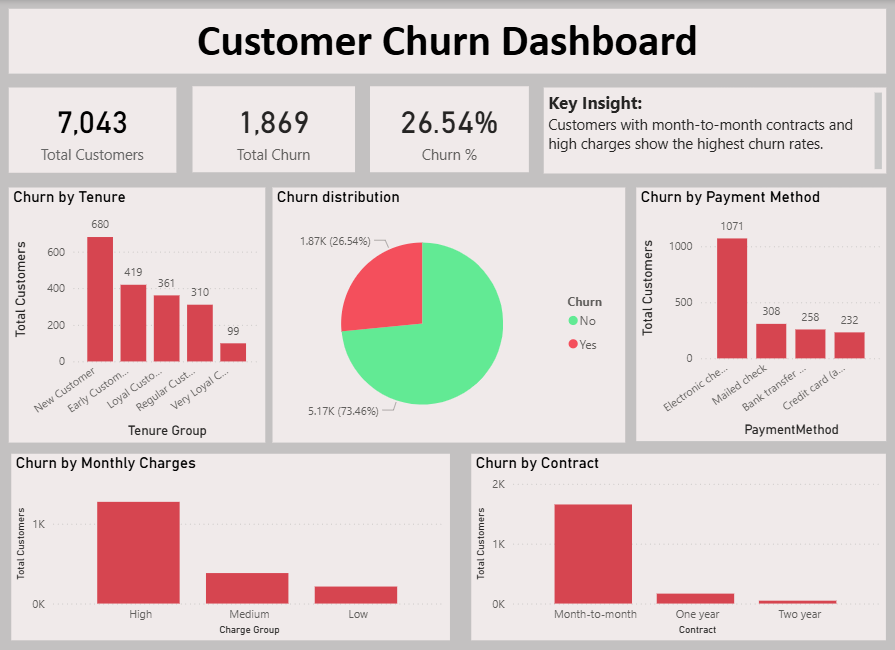

The dashboard page shown, as its layout file describes it:
{"tool":"powerbi","page":{"name":"Page 1","canvas":[1280,720],"ordinal":0},"visuals":[{"type":"card","title":"Churn Rate","fields":{"Values":["Telco-Customer-Churn.Churn %"]},"box":[537.9,94.7,174.3,94.7],"z":0},{"type":"clusteredColumnChart","title":"Churn by Tenure","fields":{"Category":["Telco-Customer-Churn.Tenure Group"],"Y":["Telco-Customer-Churn.total_customers"],"Series":["Telco-Customer-Churn.Churn"]},"box":[141.3,205.8,281.3,279.9],"z":1000},{"type":"clusteredColumnChart","title":"Churn by Payment Method","fields":{"Category":["Telco-Customer-Churn.PaymentMethod"],"Y":["Telco-Customer-Churn.total_customers"],"Series":["Telco-Customer-Churn.Churn"]},"box":[830.2,205.8,274.4,278.6],"z":2000},{"type":"pieChart","title":"Churn distribution","fields":{"Category":["Telco-Customer-Churn.Churn"],"Y":["CountNonNull(Telco-Customer-Churn.Churn)"]},"box":[430.9,205.8,387,279.9],"z":3000},{"type":"clusteredColumnChart","title":"Churn by Contract","fields":{"Category":["Telco-Customer-Churn.Contract"],"Y":["Telco-Customer-Churn.total_customers"],"Series":["Telco-Customer-Churn.Churn"]},"box":[649.1,498.1,455.6,204.5],"z":4000},{"type":"card","title":"Total Customers","fields":{"Values":["Telco-Customer-Churn.total_customers"]},"box":[141.3,96.1,183.9,93.3],"z":5000},{"type":"card","title":"Total Churn","fields":{"Values":["Telco-Customer-Churn.Total Churn"]},"box":[343.1,94.7,178.4,94.7],"z":6000},{"type":"textbox","box":[141.3,9.6,963.3,71.4],"z":7000},{"type":"clusteredColumnChart","title":"Churn by Monthly Charges","fields":{"Y":["Telco-Customer-Churn.total_customers"],"Category":["Telco-Customer-Churn.Charge Group"],"Series":["Telco-Customer-Churn.Churn"]},"box":[144.1,498.1,481.6,204.5],"z":8000},{"type":"textbox","box":[728.6,96.1,376,94.7],"z":8001}]}

Visuals, with their boxes on the page's 1280x720 design canvas (x1, y1, x2, y2). These are canvas units, not pixel positions in the 895x650 screenshot, which may show the page scaled, cropped or inside an application window:
"Churn Rate" card: region(538, 95, 712, 189)
"Churn by Tenure" clusteredColumnChart: region(141, 206, 423, 486)
"Churn by Payment Method" clusteredColumnChart: region(830, 206, 1105, 484)
"Churn distribution" pieChart: region(431, 206, 818, 486)
"Churn by Contract" clusteredColumnChart: region(649, 498, 1105, 703)
"Total Customers" card: region(141, 96, 325, 189)
"Total Churn" card: region(343, 95, 522, 189)
textbox: region(141, 10, 1105, 81)
"Churn by Monthly Charges" clusteredColumnChart: region(144, 498, 626, 703)
textbox: region(729, 96, 1105, 191)
